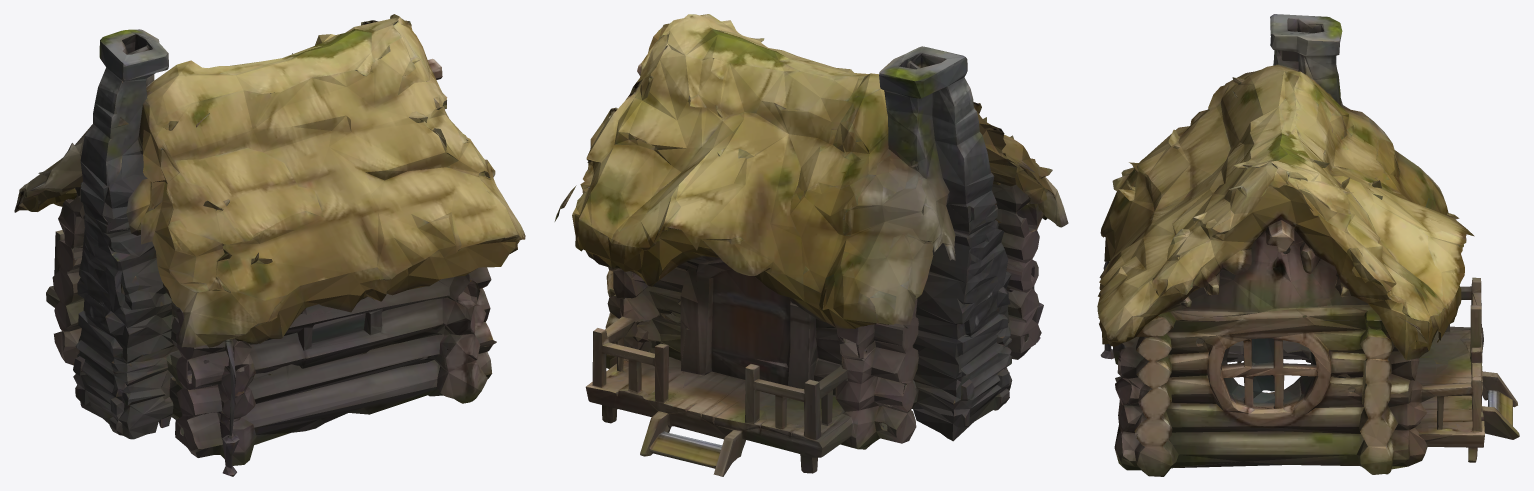
Rendered from house_thatch.glb.
3 renders of one model, left to right at view 1: azimuth 30°, elevation 25°; view 2: azimuth 150°, elevation 25°; view 3: azimuth 270°, elevation 25°, orthographic. The views are drawn at different scales.
Visible parts, largest first — view 1: world; view 2: world; view 3: world.
Part boxes in pixels (box(x1,y1,x2,y2)): world: box(14, 14, 525, 476); world: box(554, 14, 1068, 476); world: box(1097, 14, 1519, 476).
Size of the model in its own units: 0.9665 by 0.8967 by 0.9998.
1 material, 1 textured.
